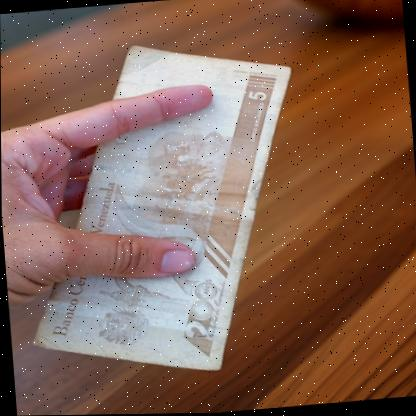five-back-vef: (10, 32, 313, 386)
